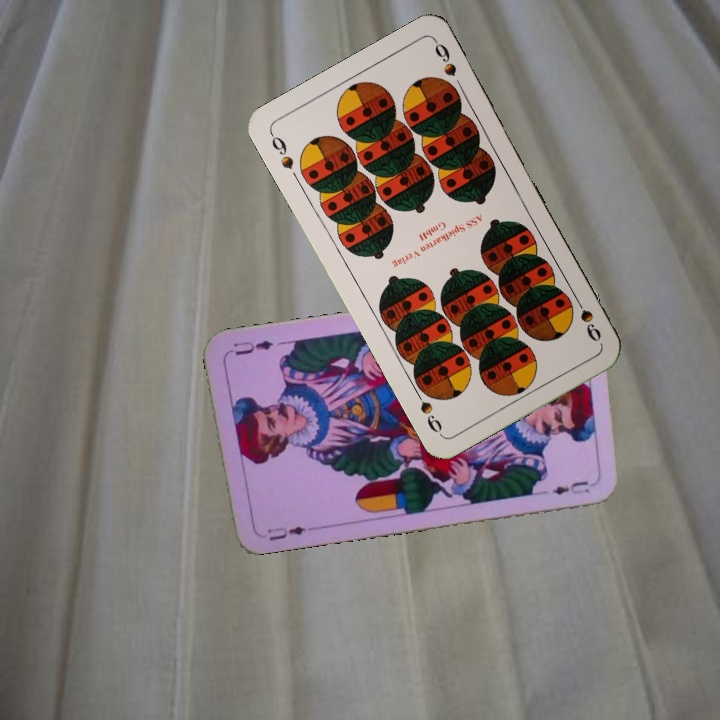EU: (263, 522, 308, 543)
S9: (569, 290, 604, 345), (266, 128, 297, 172)
